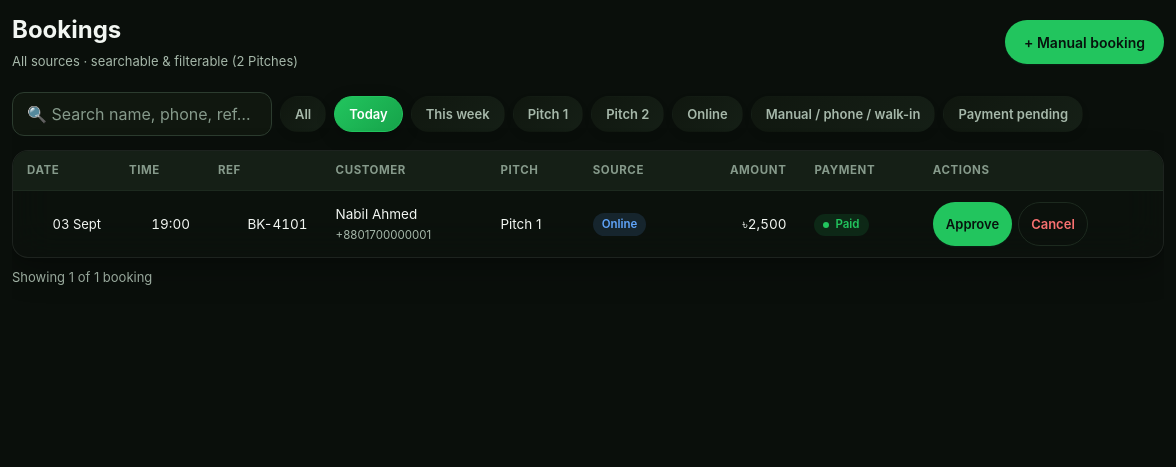
Test: Owner BookingsPage — row actions › renders a friendly contextual empty state when filtering by Payment pending with no matching bookings
The width and height of the screenshot is (1176, 467).
Expected: the text "BK-4101" is shown, [204,191,322,257]
Click the button "Payment pending": x=1013, y=114 [943,96,1083,132]
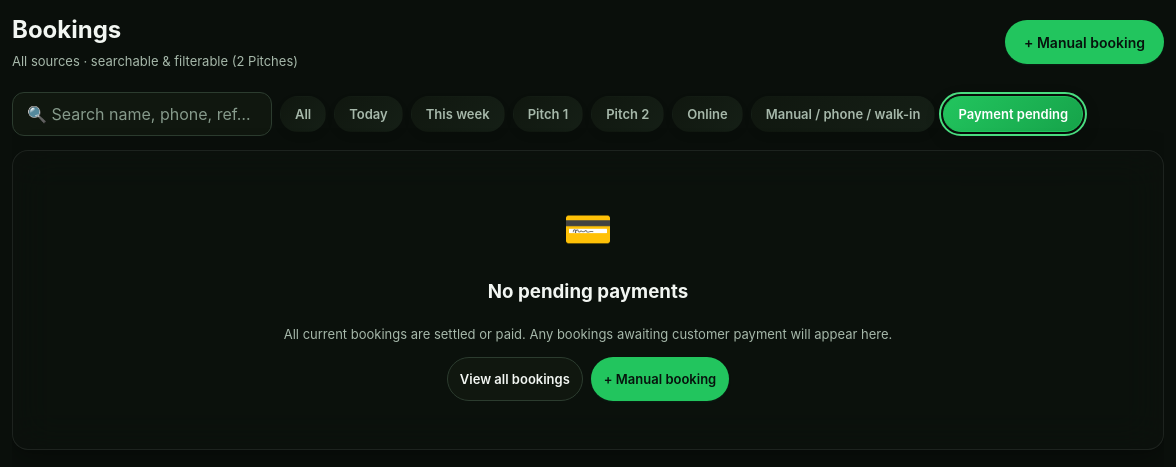
Expected: the heading "No pending payments" is shown, [488,280,688,303]
Expected: the text "All current bookings are settled or paid" is shown, [284,326,892,342]
// Clicking "View all bookings" clears the filter and shows the bookings again
Click the button "View all bookings": x=515, y=379 [447,357,583,401]
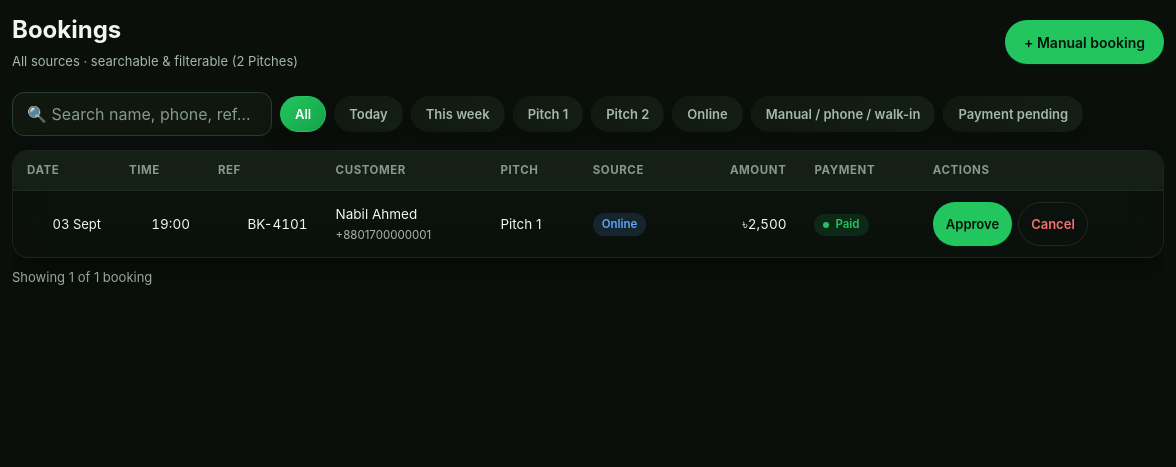
Expected: the text "BK-4101" is shown, [204,191,322,257]
